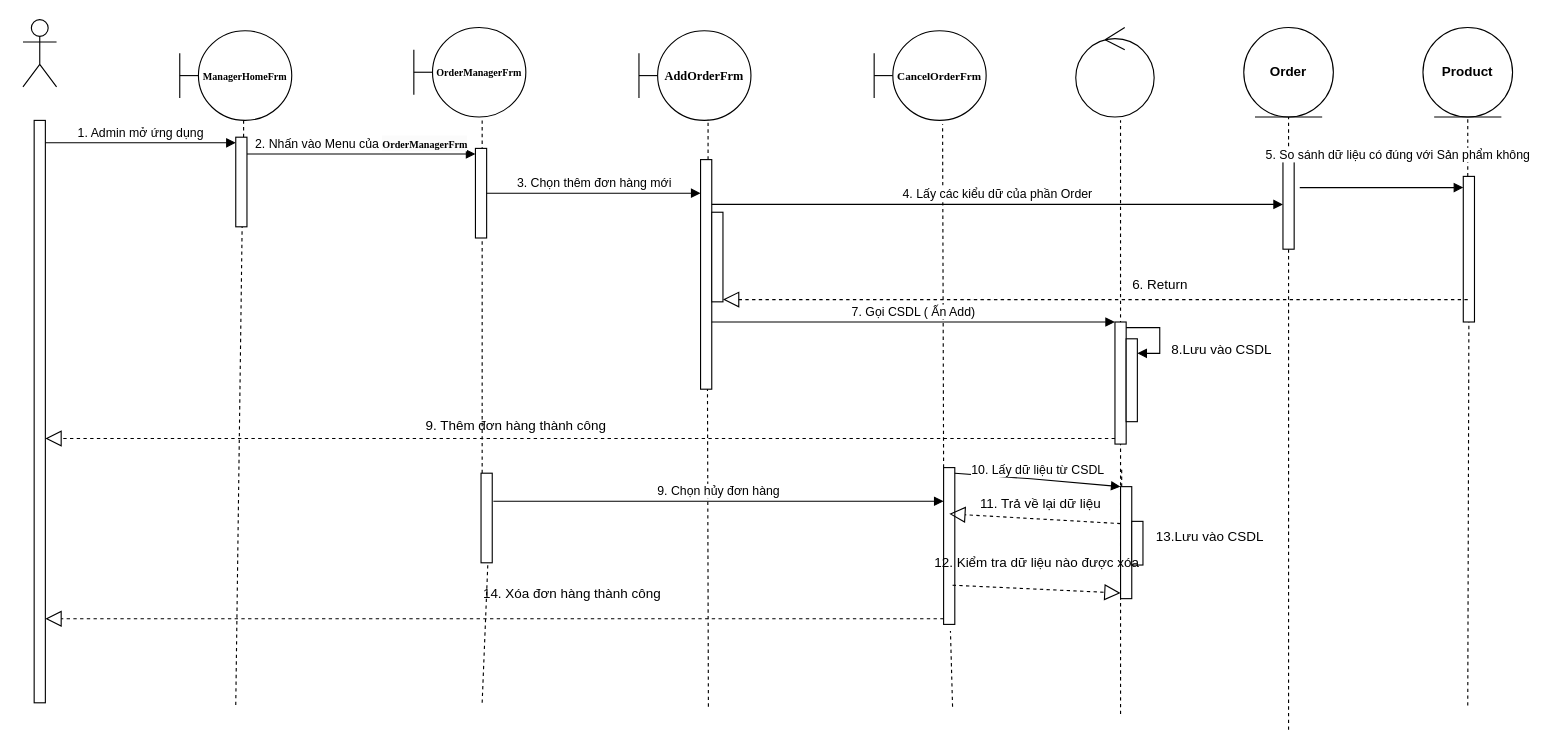
Some shapes in this 1552 by 752 pixel diagram are drawn without their labels. Here are the shapes that lost their labels. From the top down, the centre of each, then its label:
the point at 39,52: Admin
the point at 1114,71: DAO
